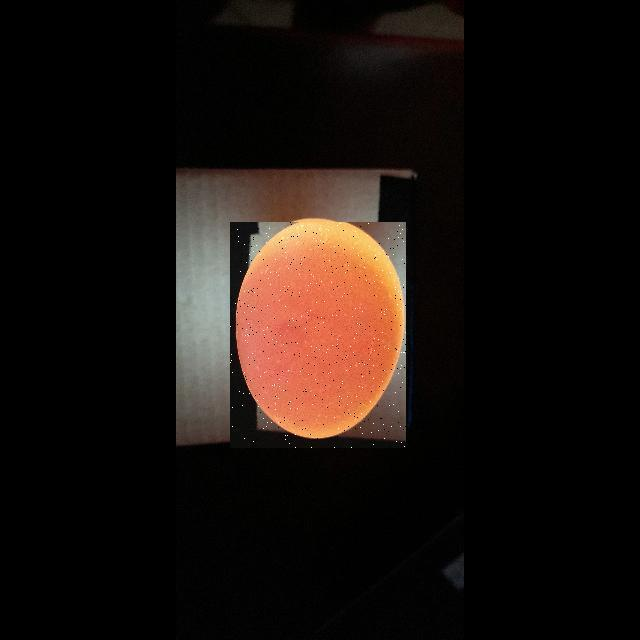Inedible: (231, 221, 409, 440)
